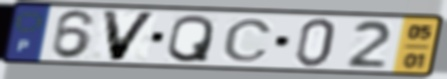0: (292, 16, 340, 69)
2: (345, 19, 396, 70)
6: (50, 8, 96, 61)
C: (220, 18, 275, 64)
Q: (164, 13, 217, 64)
V: (99, 9, 160, 63)
